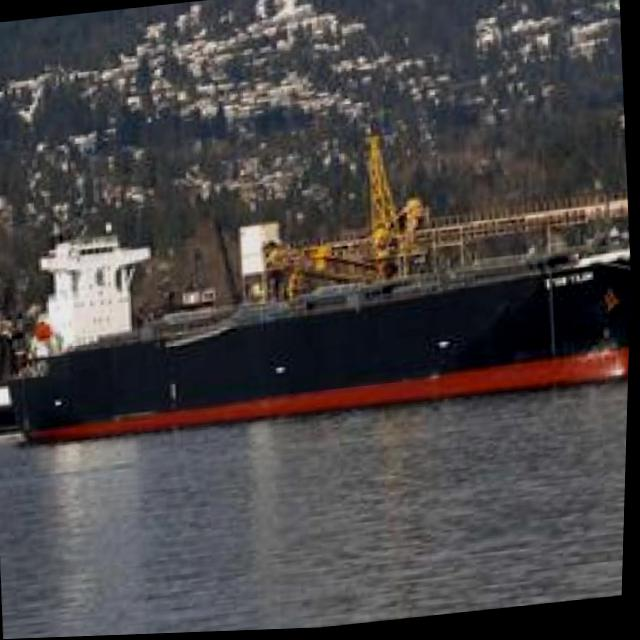ship2: (7, 231, 633, 446)
